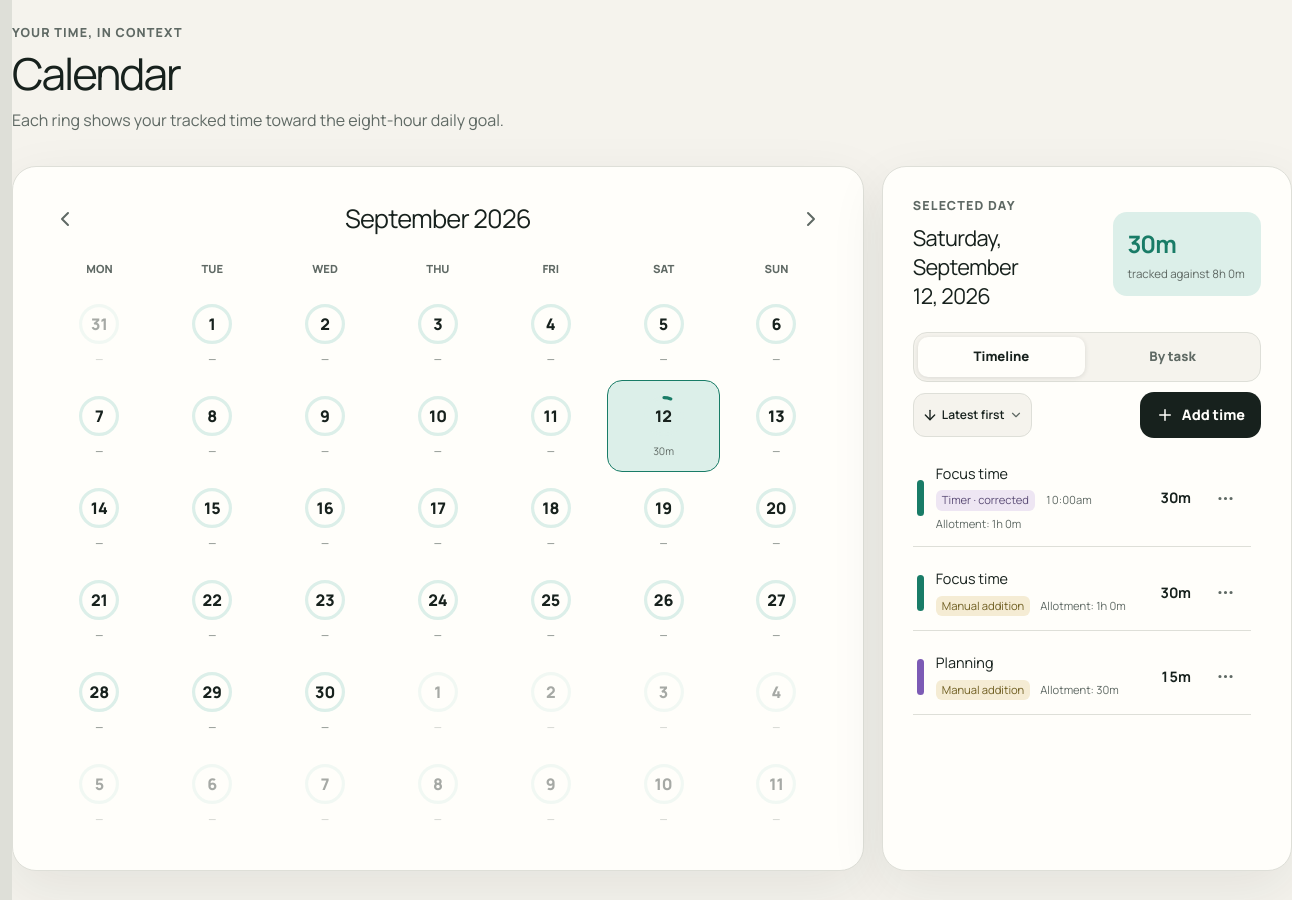
Test: CalendarPage corrections › switches from individual history to per-task daily totals
This screenshot has width=1292, height=900.
Expected: the element named "Tracked entries" is shown, [913,450,1261,840]
Click the button "By task".
click(1172, 357)  # box [1089,337,1256,377]
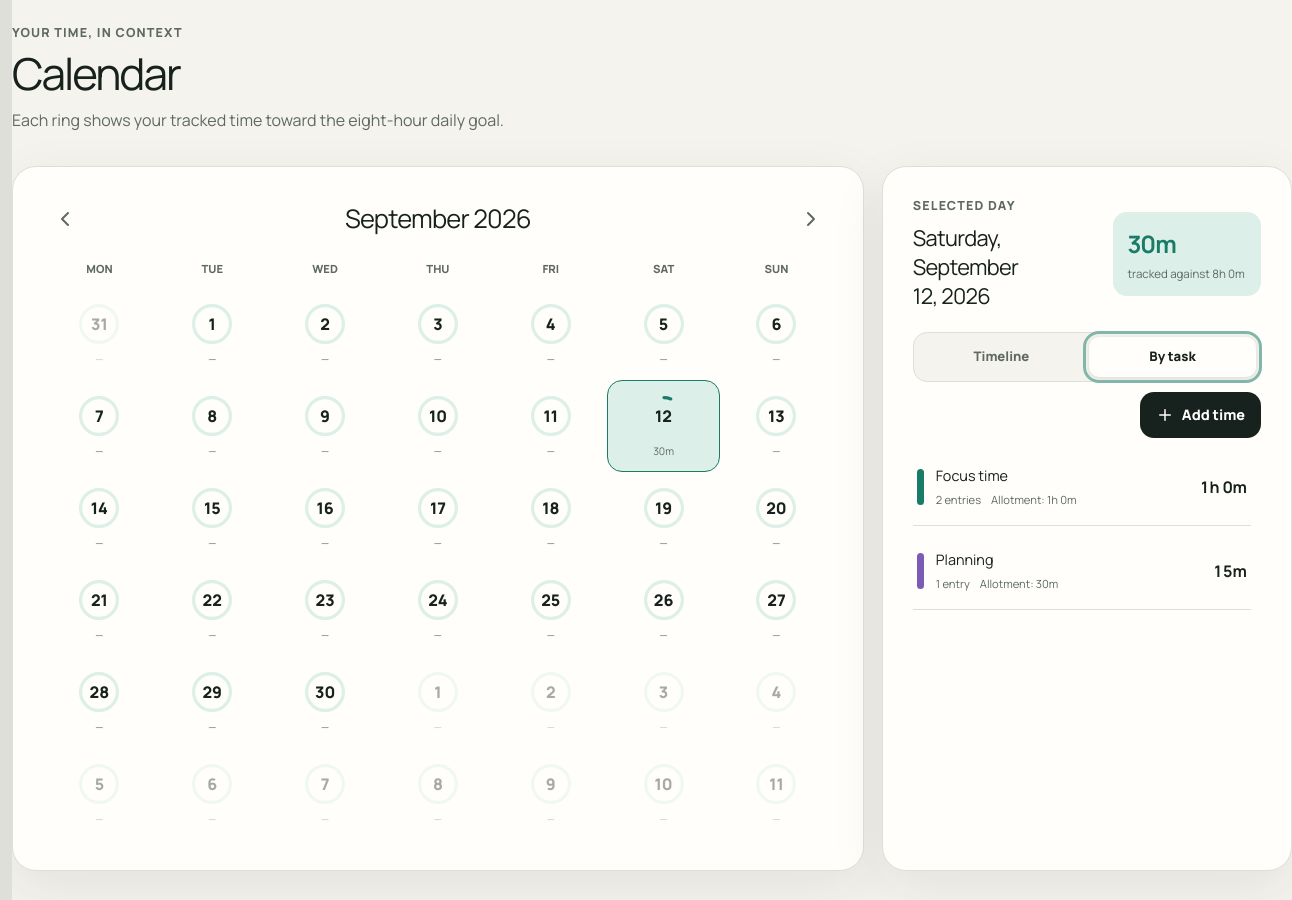
Expected: the element named "Daily task totals" is shown, [913,450,1251,610]
Expected: the element named "Focus time: 1h 0m across 2 entries" is shown, [913,450,1251,526]
Expected: the element named "Planning: 15m across 1 entry" is shown, [913,534,1251,610]
Click the button "Timeline".
click(1001, 357)  # box [918,337,1085,377]
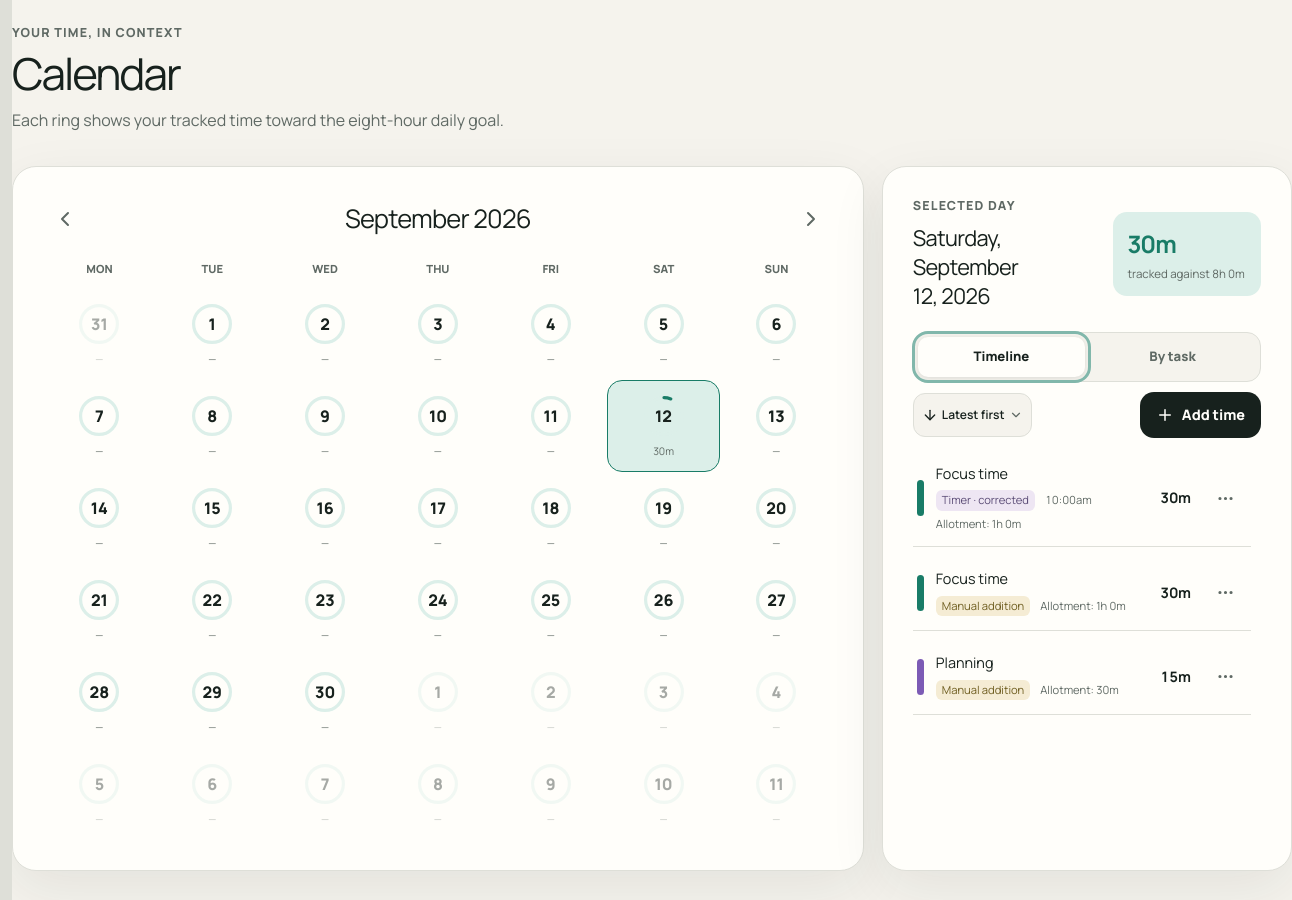
Expected: the element named "Tracked entries" is shown, [913,450,1261,840]
Expected: the dropdown named "History order: Latest first" is shown, [913,393,1032,437]
